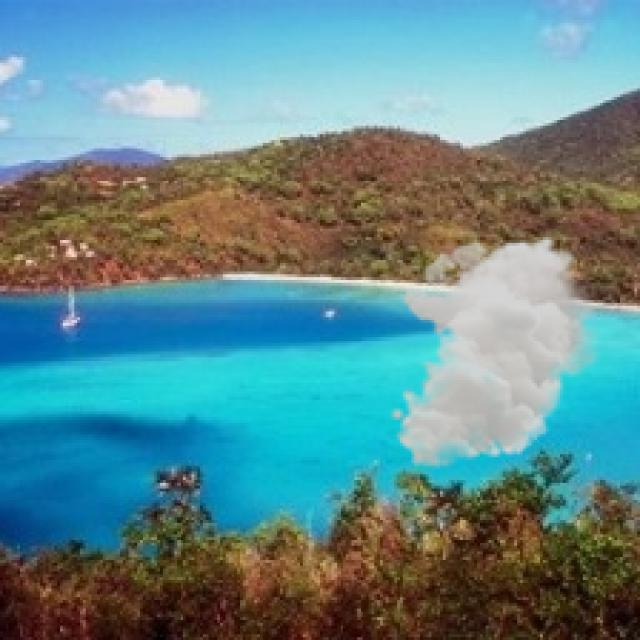Smoke: (388, 234, 606, 469)
